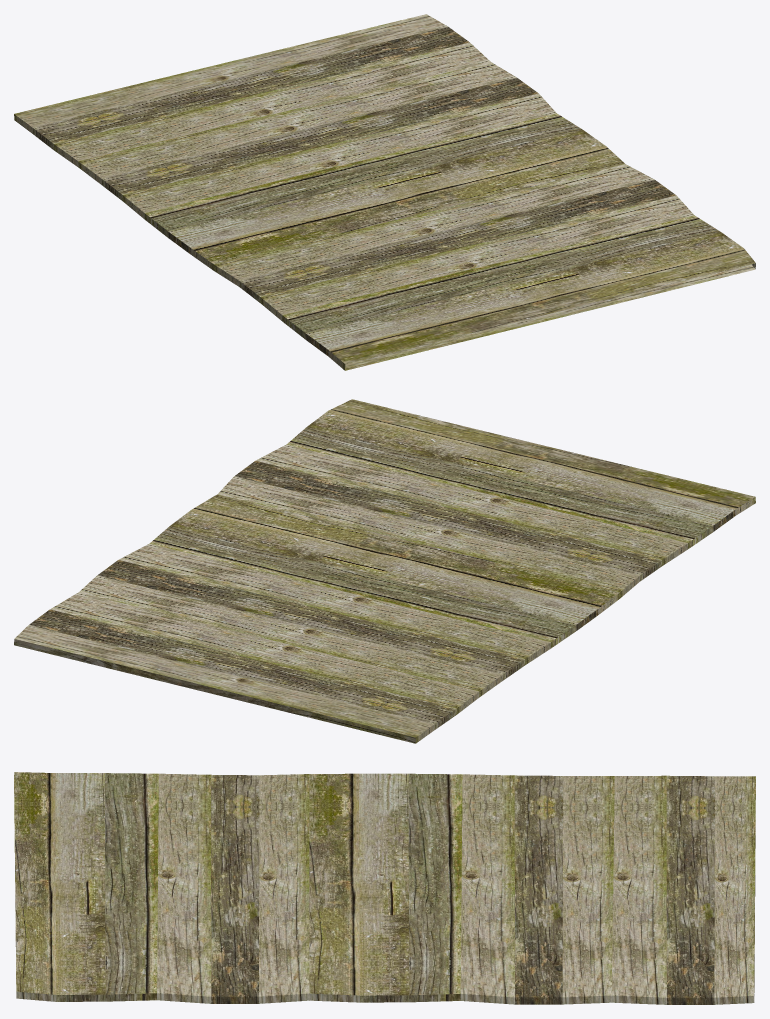
File: Moving_ramp_colider.fbx
The picture shows the model from 3 angles, top to bottom: view 1: azimuth 30°, elevation 25°; view 2: azimuth 150°, elevation 25°; view 3: azimuth 270°, elevation 25°; orthographic projection. The views are drawn at different scales.
Visible parts, largest first — view 1: Moving_Ramp__1_; view 2: Moving_Ramp__1_; view 3: Moving_Ramp__1_.
Part boxes in pixels (x1,y1,x2,y2): Moving_Ramp__1_: [14, 14, 755, 370]; Moving_Ramp__1_: [14, 399, 755, 743]; Moving_Ramp__1_: [14, 772, 755, 1004].
Bounding box in the file's own units: 205 × 3 × 285.
